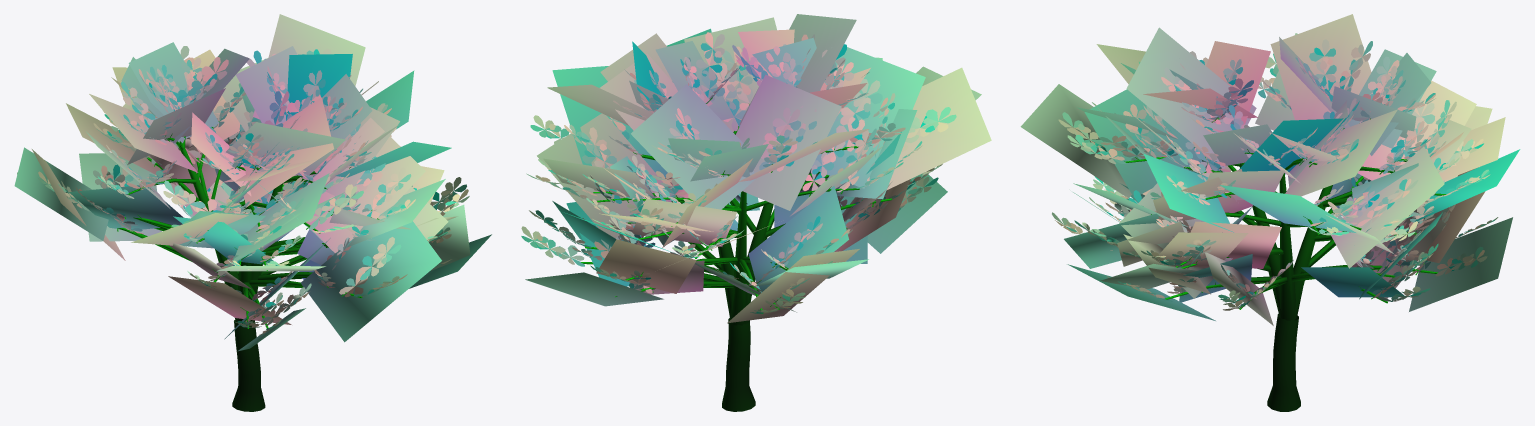
The model's file is bang_3.glb.
The picture shows the model from 3 angles, left to right: view 1: azimuth 30°, elevation 25°; view 2: azimuth 150°, elevation 25°; view 3: azimuth 270°, elevation 25°; orthographic projection. The views are drawn at different scales.
Visible parts, largest first — view 1: mid, near; view 2: mid, near; view 3: mid, near.
Boxes of the visible parts, box(x1,y1,x2,y2) form: mid: box(14, 14, 491, 351); near: box(17, 46, 469, 411); mid: box(525, 14, 991, 325); near: box(521, 32, 956, 411); mid: box(1020, 14, 1520, 325); near: box(1052, 39, 1498, 411).
Size of the model in its own units: 12.62 by 11.19 by 14.45.
